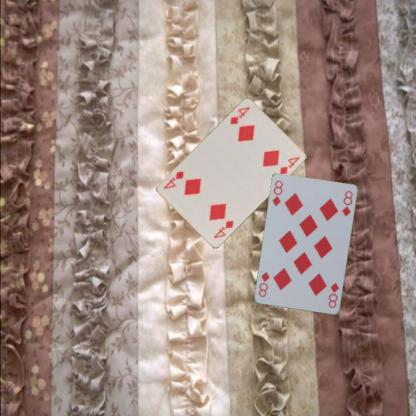4d: (211, 217, 235, 239), (228, 104, 251, 125)
8d: (326, 280, 340, 310), (270, 178, 284, 207)
